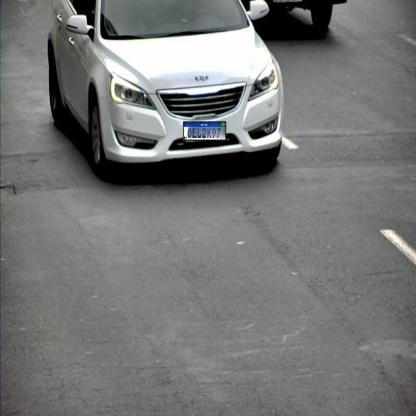PlacaM: (183, 121, 226, 141)
